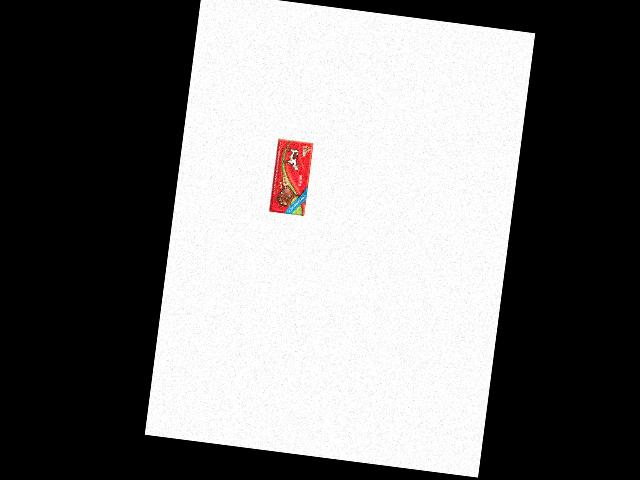chocolate: (269, 135, 314, 215)
